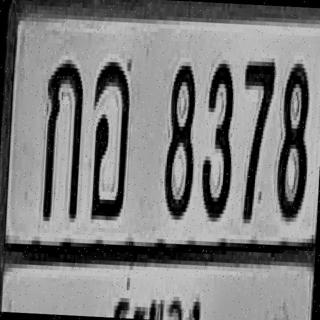A01: (41, 57, 85, 220)
A43: (87, 59, 132, 219)
N03: (200, 59, 237, 218)
N07: (237, 59, 276, 222)
N08: (275, 59, 312, 218), (162, 63, 198, 218)
